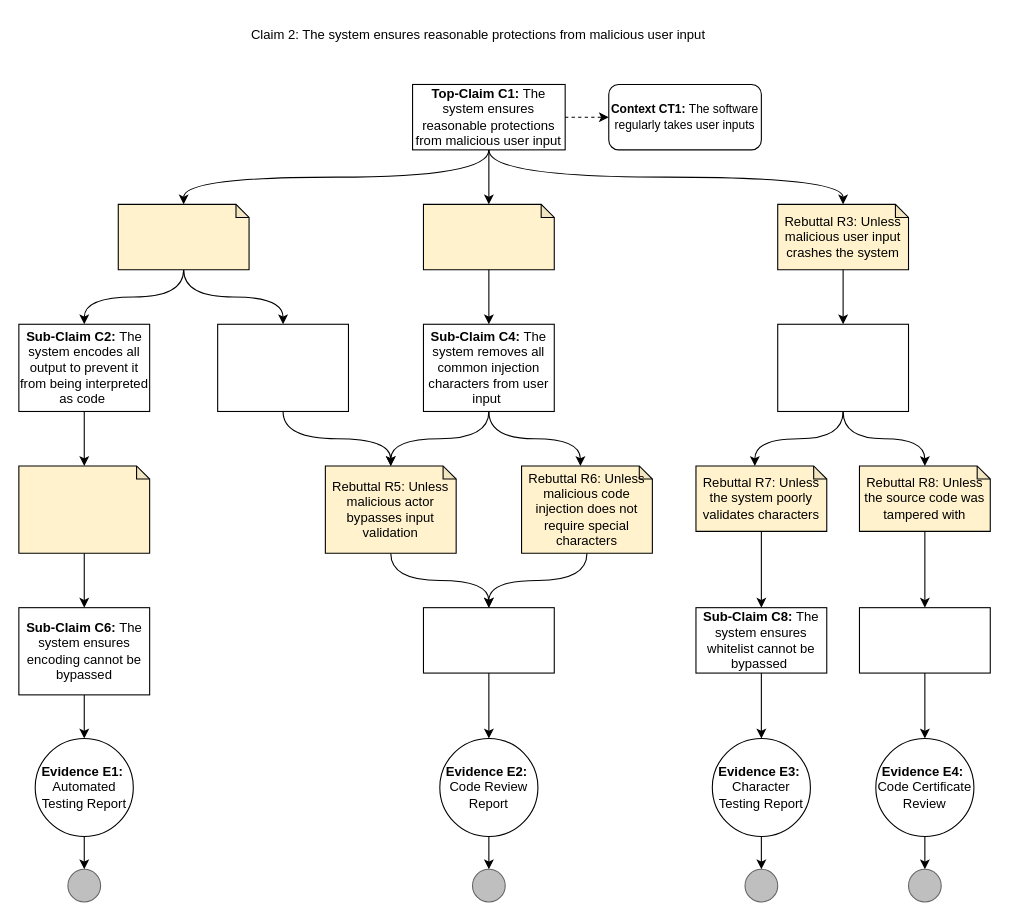
Image size: 1010x921. Some labels were removed from this diagram. Here are the shapes that lost their labels. From the top down, the centre of each, then its label:
(183,236): Rebuttal R1: Unless Cross-Site Scripting (XSS) can occur
(488,236): Rebuttal R2: Unless the database is vulnerable to command injections
(282,367): Sub-Claim C3: The system validates and filters user input
(843,367): Sub-Claim C5: The system validates user input based on a whitelist of characters
(84,509): Rebuttal R4: Unless character encoding is bypassed
(488,640): Sub-Claim C7: The system never executes user input
(924,640): Sub-Claim C9: The software is signed on release
